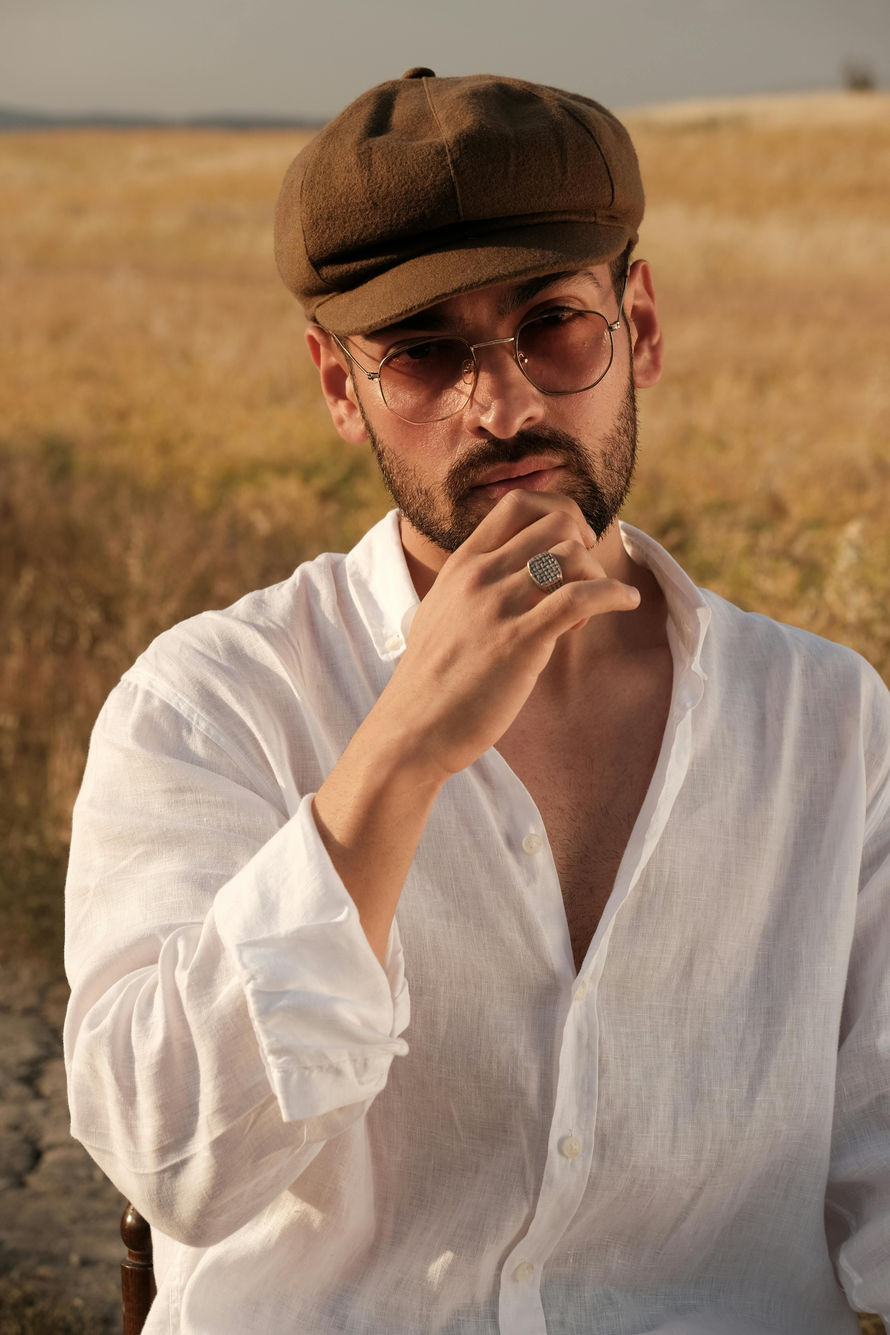cap: (261, 51, 655, 351)
sunglasses: (334, 300, 633, 436)
